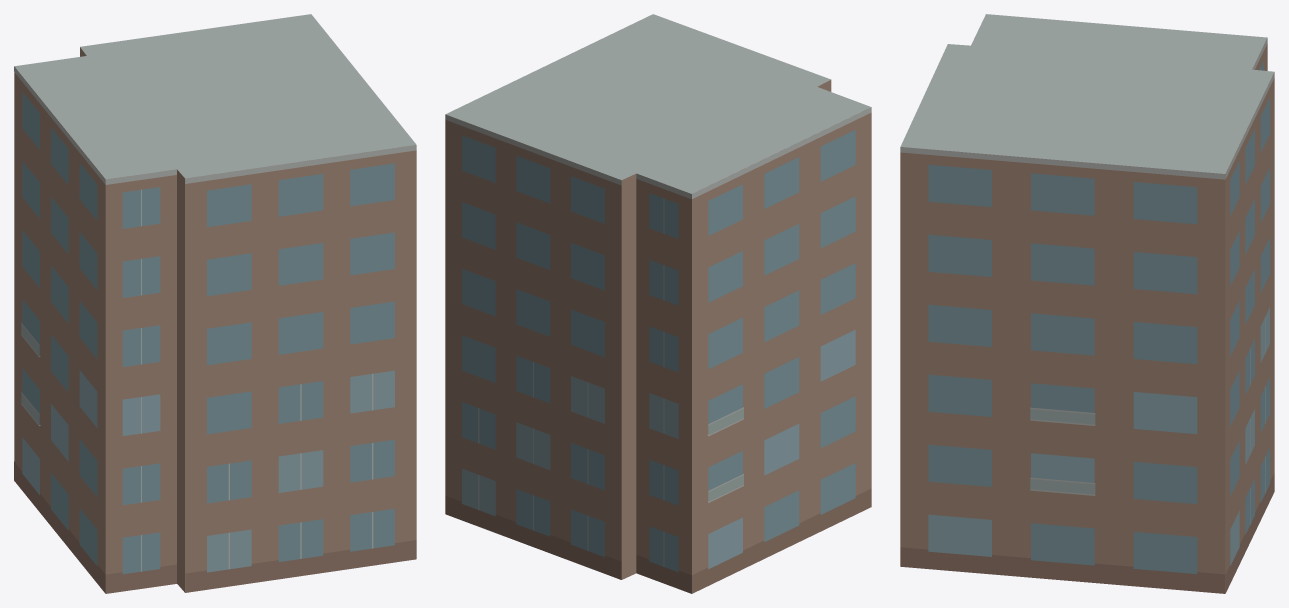
The model's file is survey-upis-33036689.glb.
3 views of the same model, side by side, from view 1: azimuth 30°, elevation 25°; view 2: azimuth 150°, elevation 25°; view 3: azimuth 270°, elevation 25° (orthographic). The views are drawn at different scales.
Parts seen in each view (by area): view 1: survey-upis-33036689.tmp; view 2: survey-upis-33036689.tmp; view 3: survey-upis-33036689.tmp.
Boxes of the visible parts, x1,y1,x2,y2 form: survey-upis-33036689.tmp: (14,14,416,593); survey-upis-33036689.tmp: (445,14,871,593); survey-upis-33036689.tmp: (900,14,1274,593).
Bounding box in the file's own units: 15.05 × 18.4 × 14.88.
